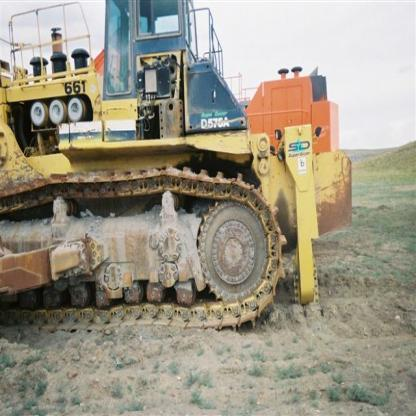bull_dozer/loader/grader: (4, 4, 312, 370)
